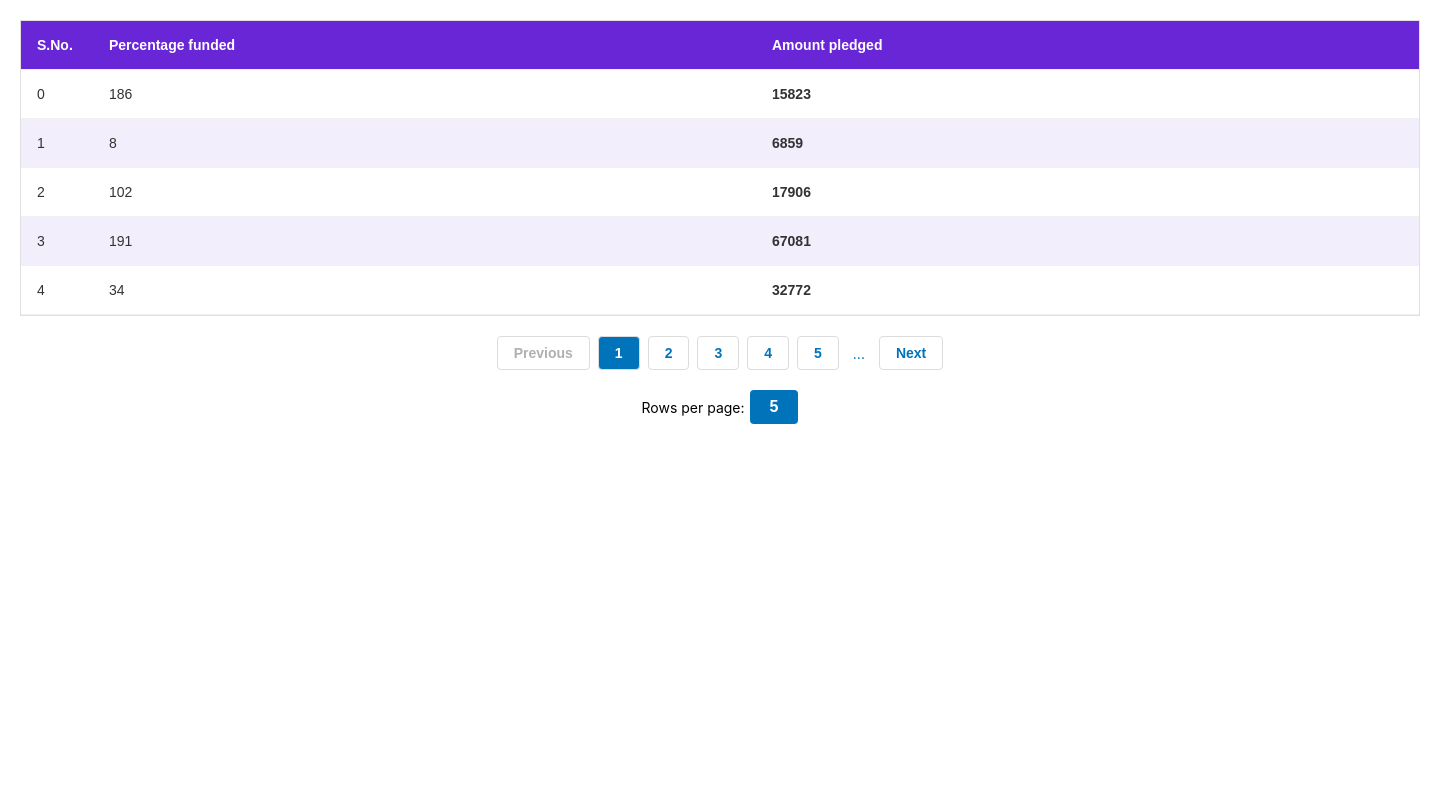
Test 6 Check if Modal is opened after clicking row per page
Step 1. Click the button with test id "open-modal" → (774, 407), box [750, 390, 798, 424]
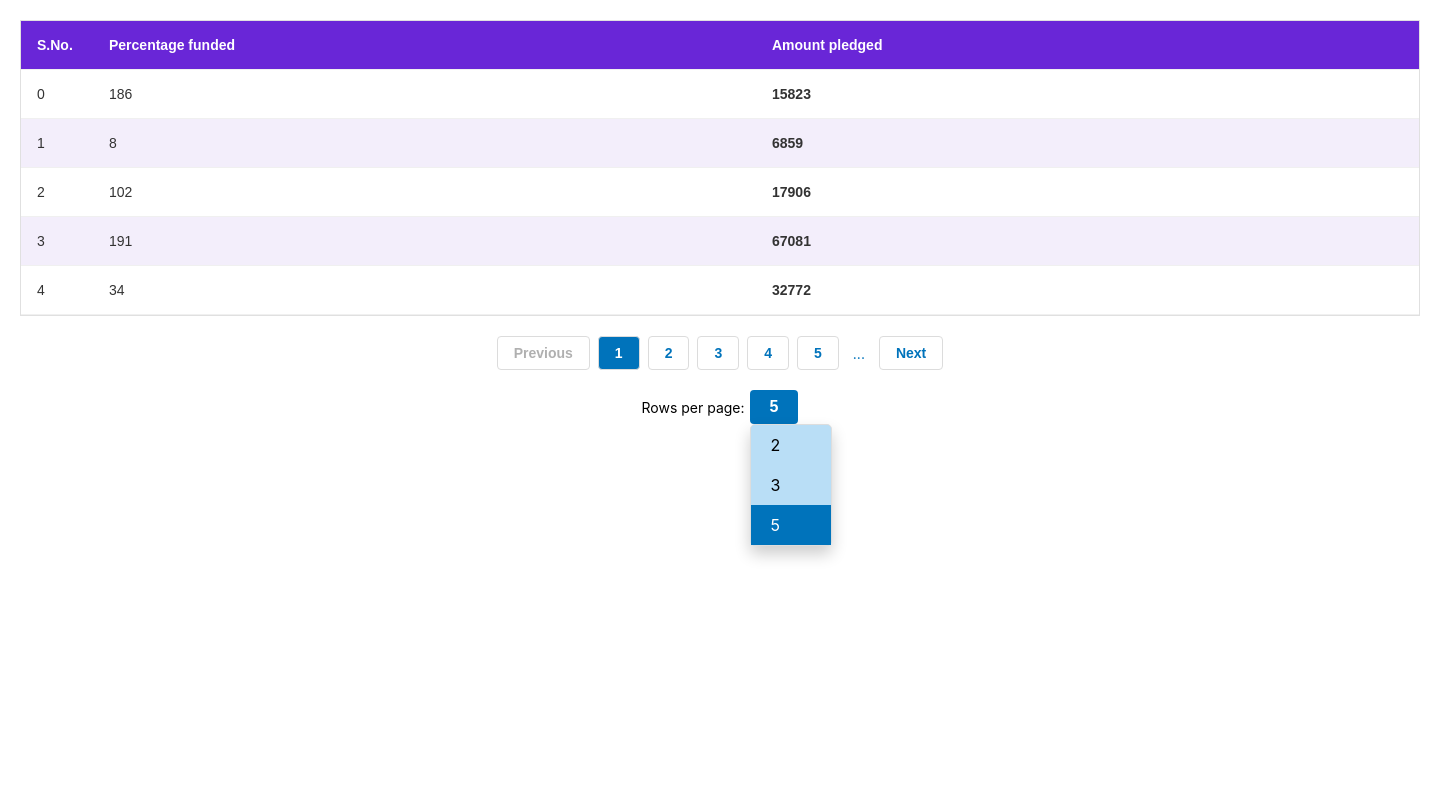
Now the menu is shown, box [750, 424, 832, 546]
Now the menu item with test id "option-2" is shown, box [771, 435, 780, 455]
